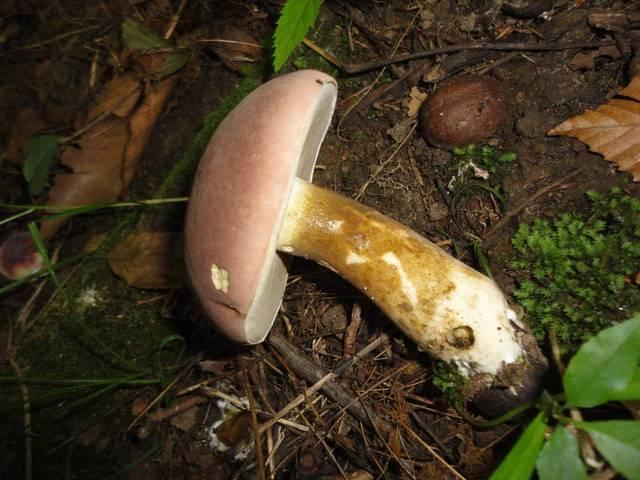Non-edible Mushroom: (181, 67, 550, 422)
